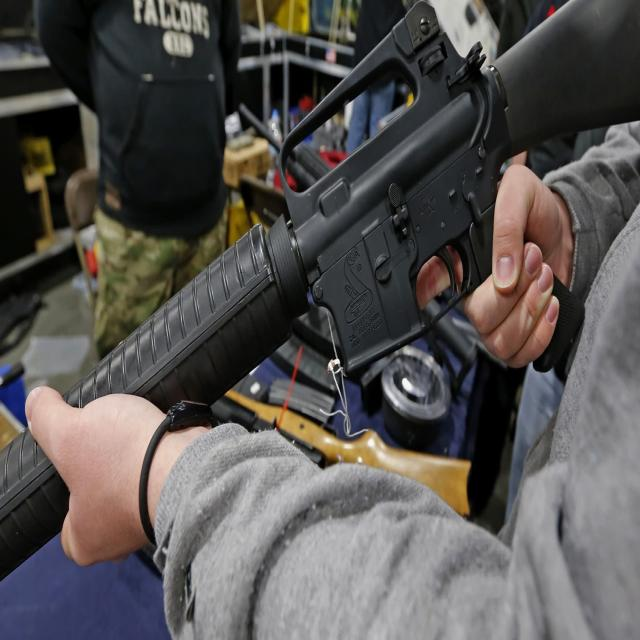Rifle: (69, 0, 640, 411)
